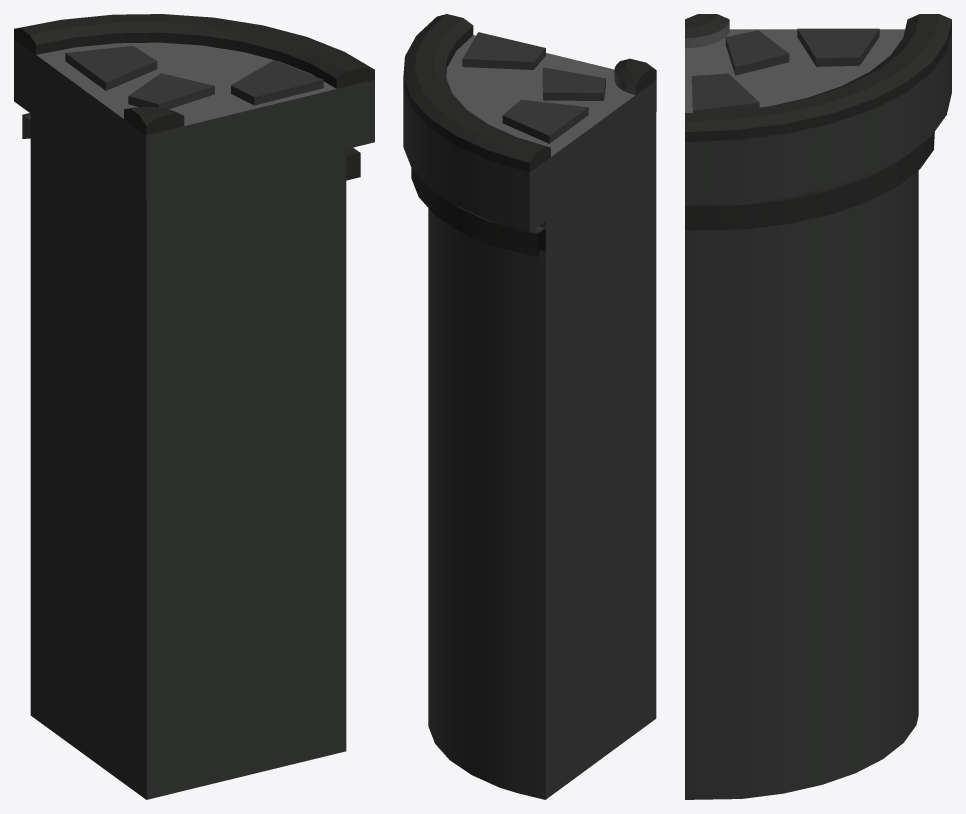
File: stone bridge curve.fbx
3 views of the same model, side by side, from view 1: azimuth 30°, elevation 25°; view 2: azimuth 150°, elevation 25°; view 3: azimuth 270°, elevation 25° (orthographic). The views are drawn at different scales.
Visible parts, largest first — view 1: stonebridge-curve; view 2: stonebridge-curve; view 3: stonebridge-curve.
Boxes of the visible parts, x1,y1,x2,y2 form: stonebridge-curve: (14, 14, 374, 799); stonebridge-curve: (403, 14, 656, 799); stonebridge-curve: (685, 14, 951, 799).
Bounding box in the file's own units: 3 × 8.52 × 3.
